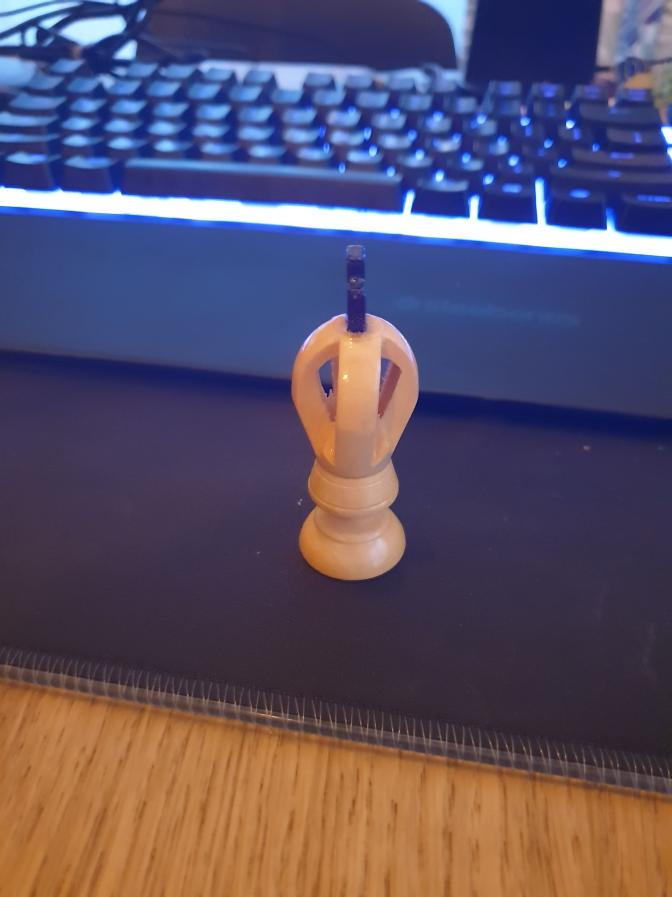wking: (290, 242, 419, 584)
